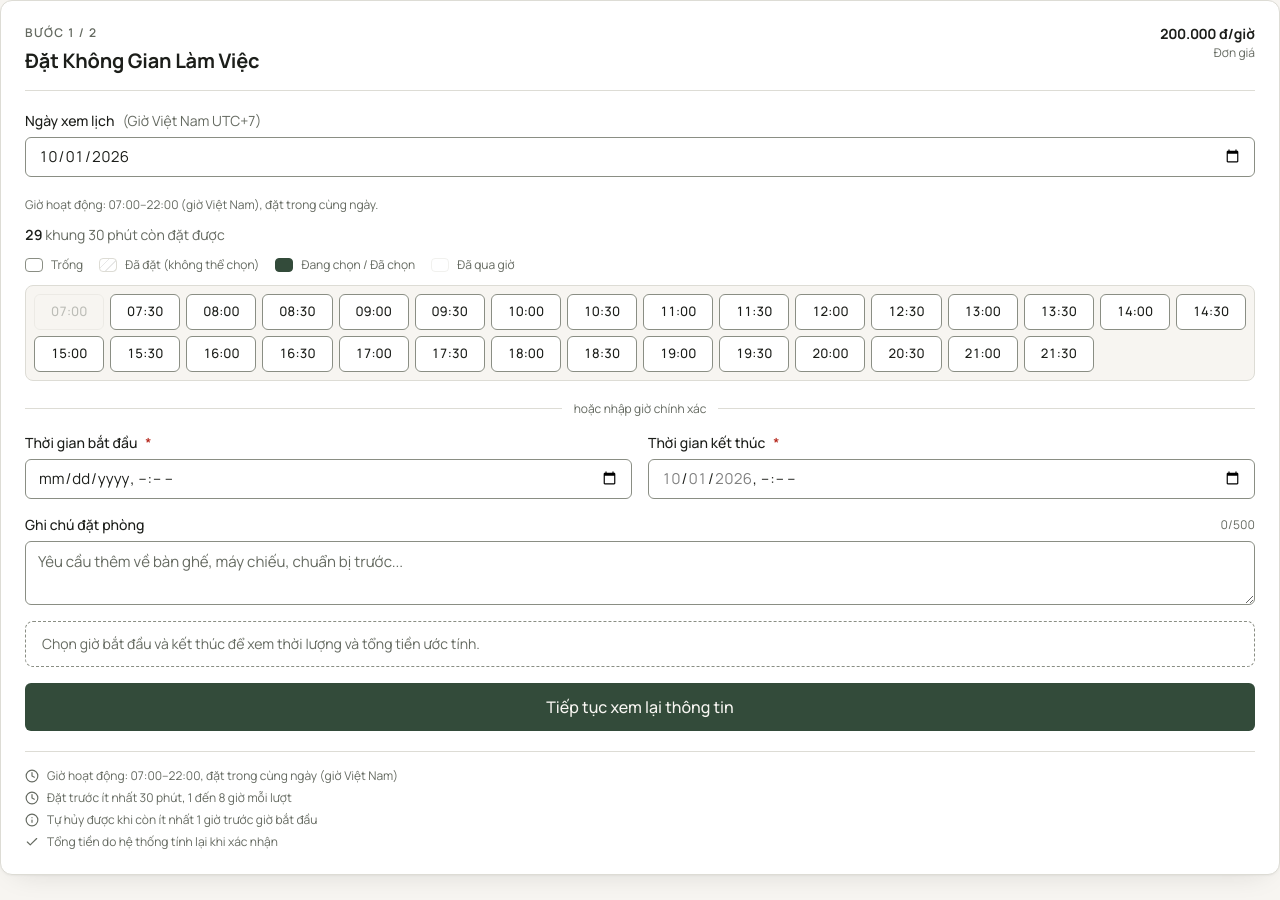
BookingForm › Form Validation & Price Preview › validates 30-minute slot alignment
This screenshot has width=1280, height=900.
Enter 10:15 (unaligned)
Type "2026-10-25T10:15" into the field labelled "Thời gian bắt đầu *". click: (328, 479)
box: [25,459,632,499]
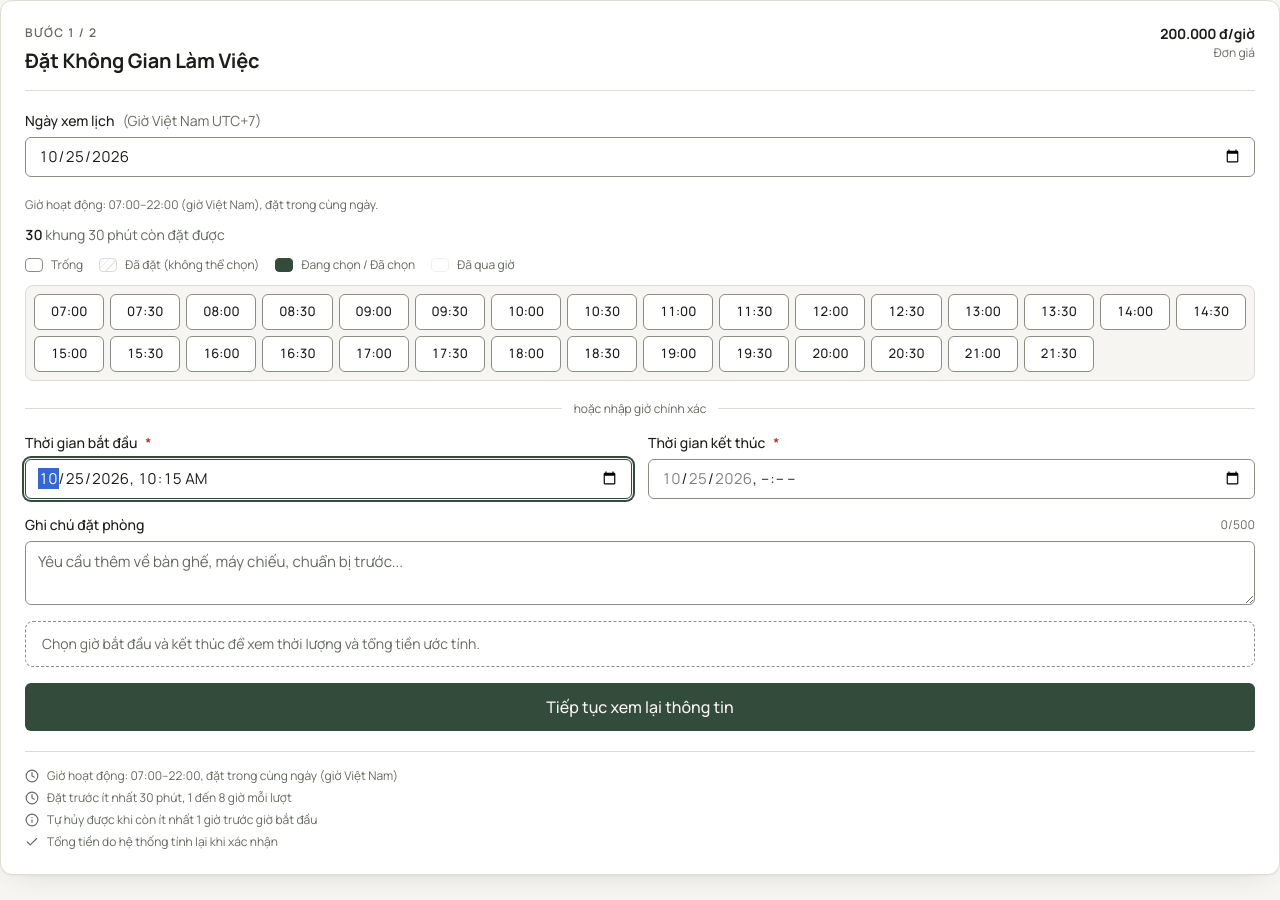
Type "2026-10-25T11:45" into the field labelled "Thời gian kết thúc *". click: (952, 479)
box: [648,459,1255,499]
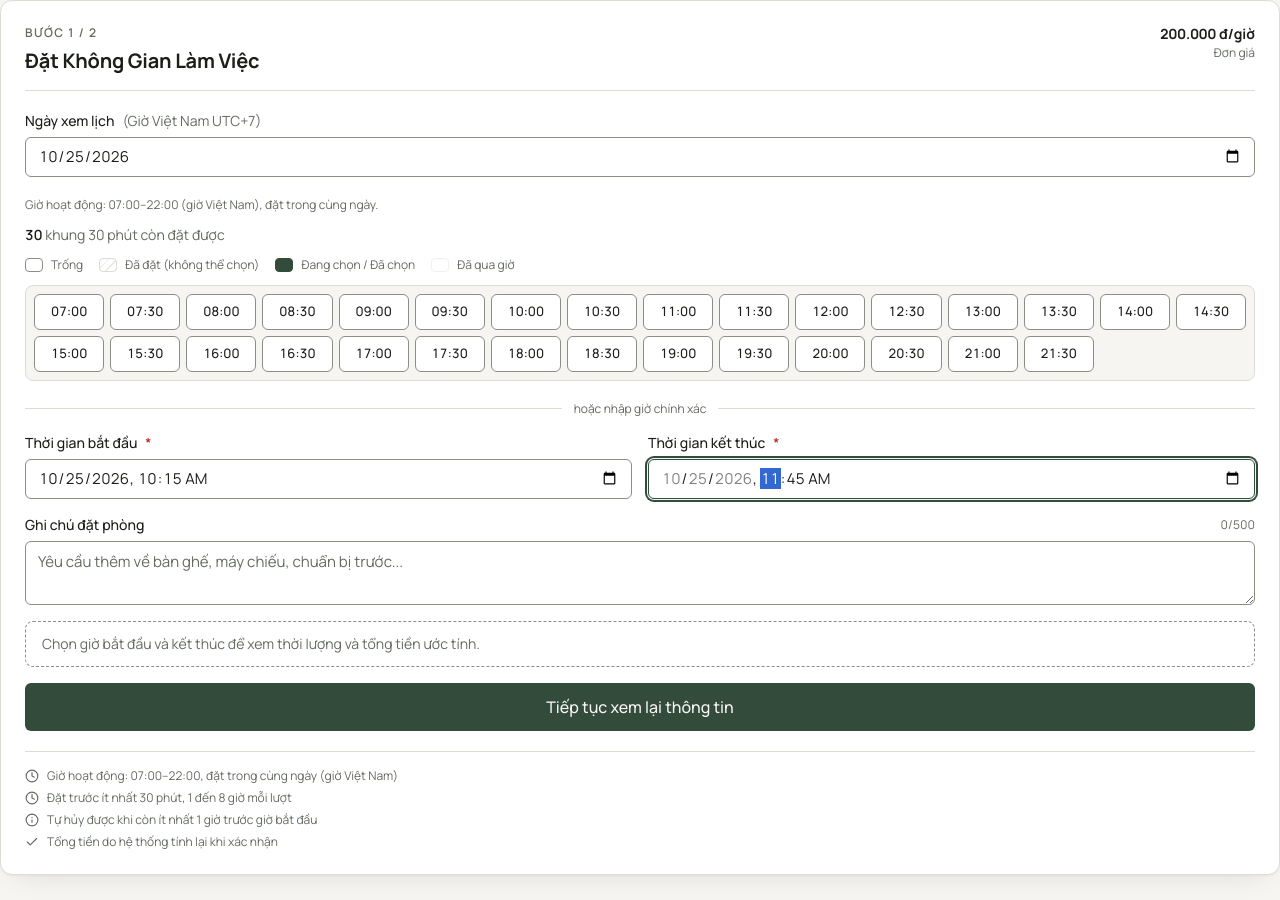
Click the button with test id "booking-submit-btn". click: (640, 707)
box: [25,683,1255,731]
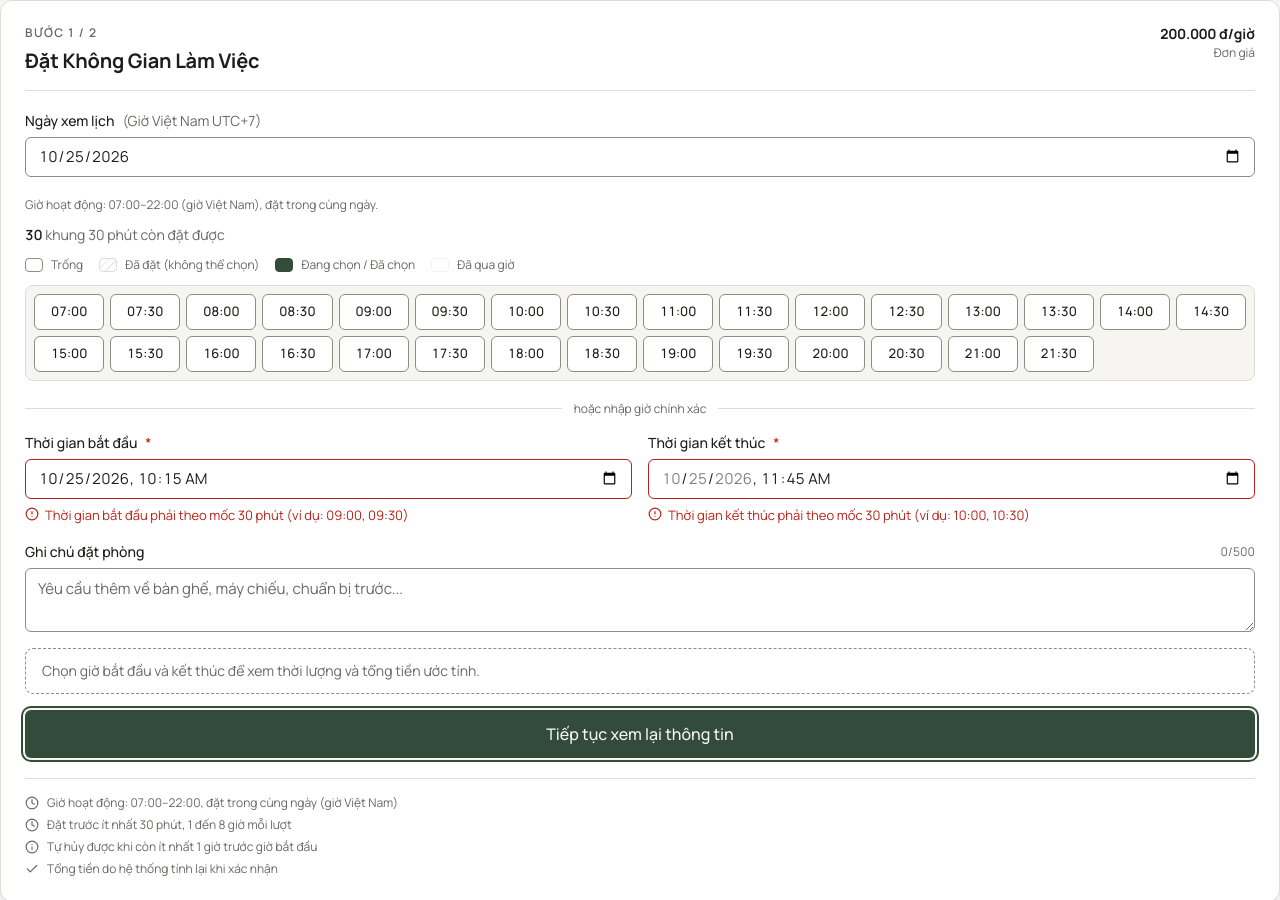
Result: the text "Thời gian bắt đầu phải theo mốc 30 phút" is shown at [45,506,409,524]
